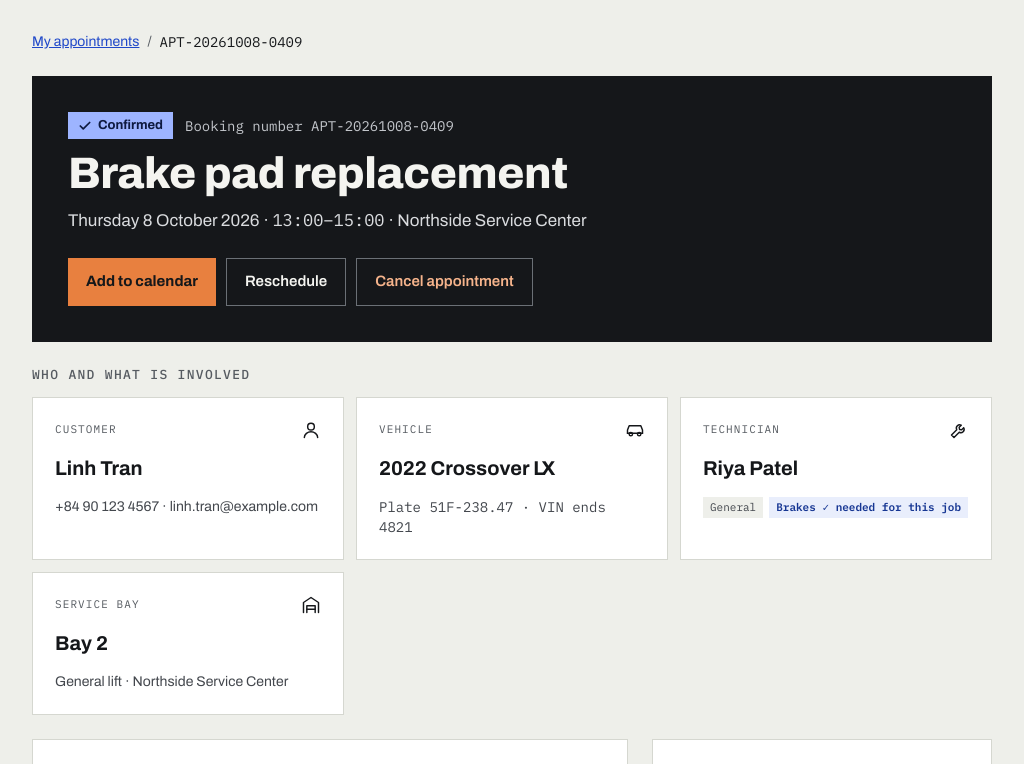
Test: Appointment record › cancel dialog: Escape closes it without cancelling
Click the button "Cancel appointment" at (444, 282), box [356, 258, 533, 306]
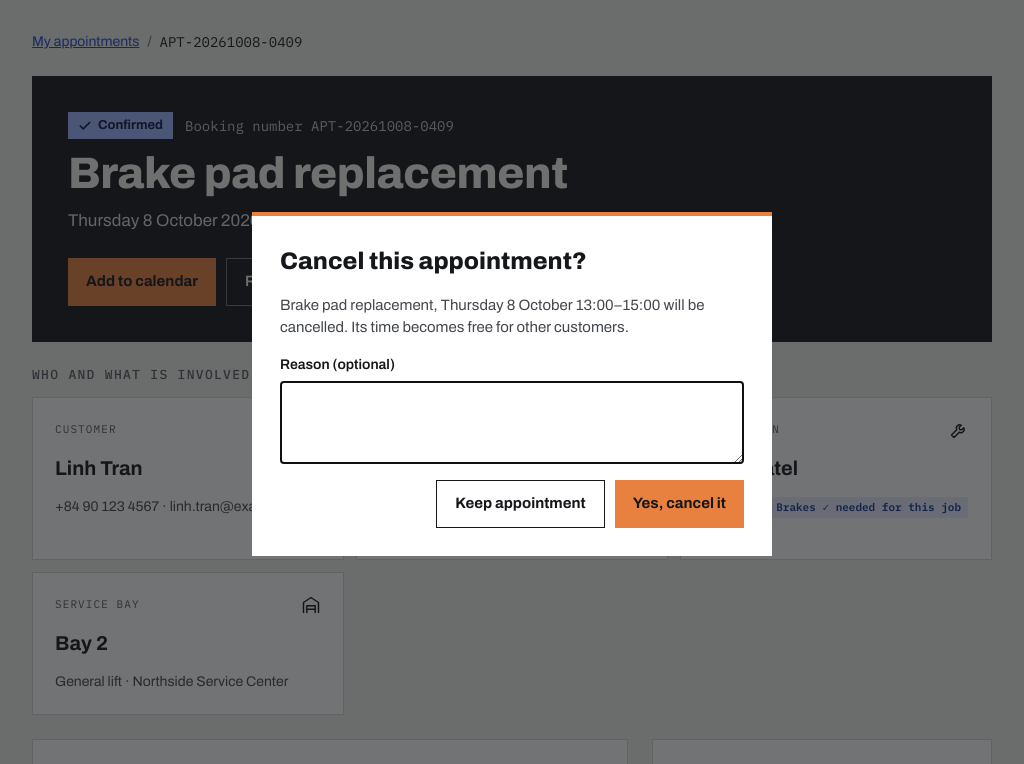
Expected: the dialog "Cancel this appointment?" is shown, [252, 212, 772, 556]
Press Escape
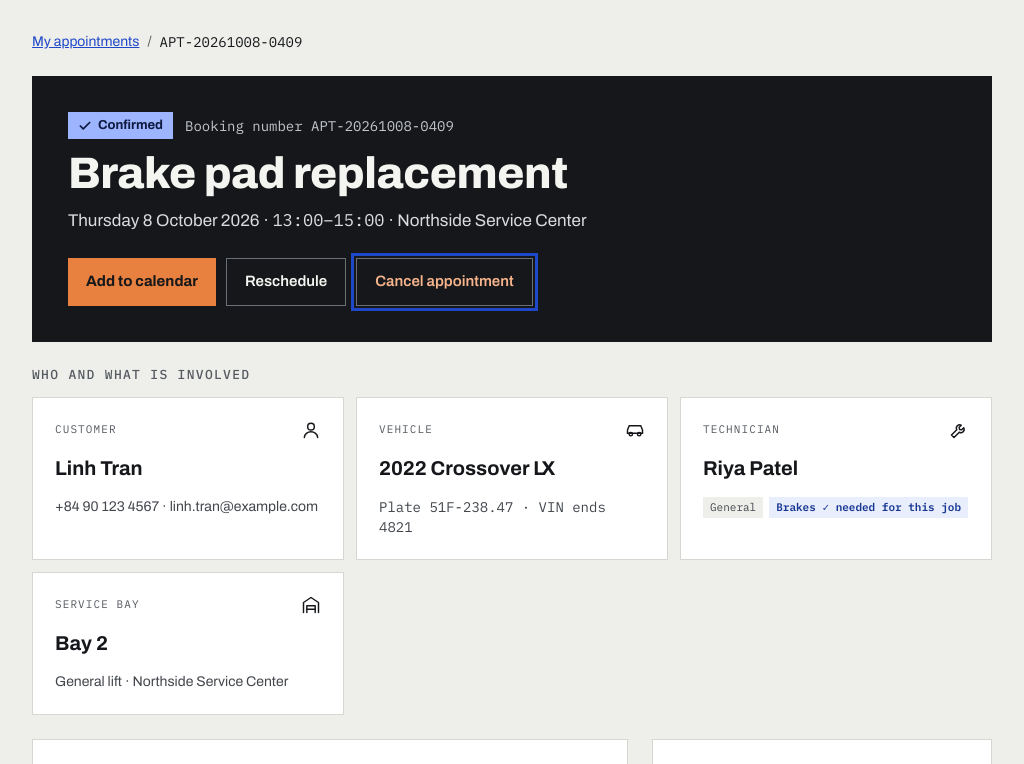
Expected: the text "Confirmed" is shown, [68, 112, 173, 139]
Expected: the dialog is gone
